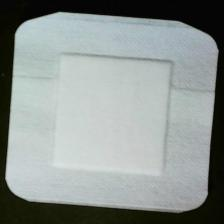Dressing: (3, 10, 220, 215)
